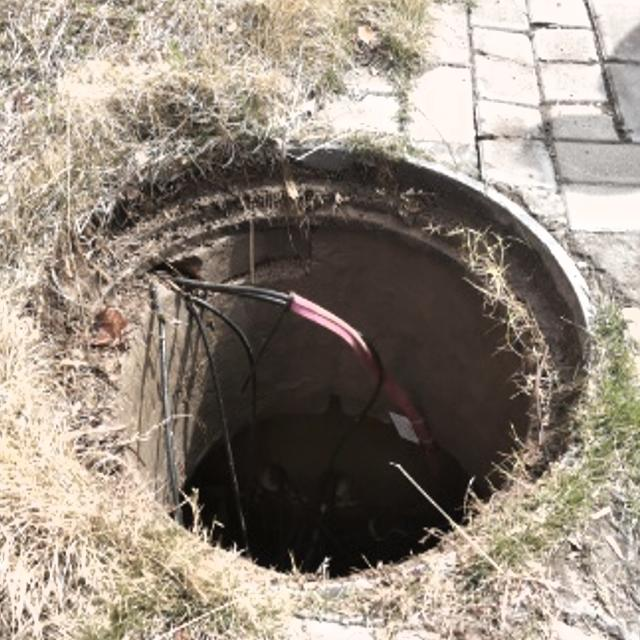lose: (37, 132, 602, 595)
